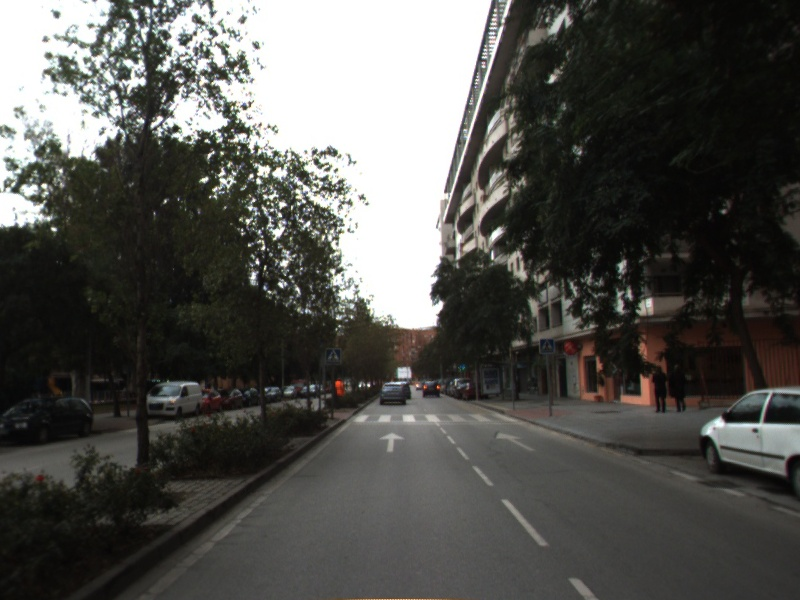STRAIGHT: (494, 430, 540, 453), (377, 430, 408, 455)
